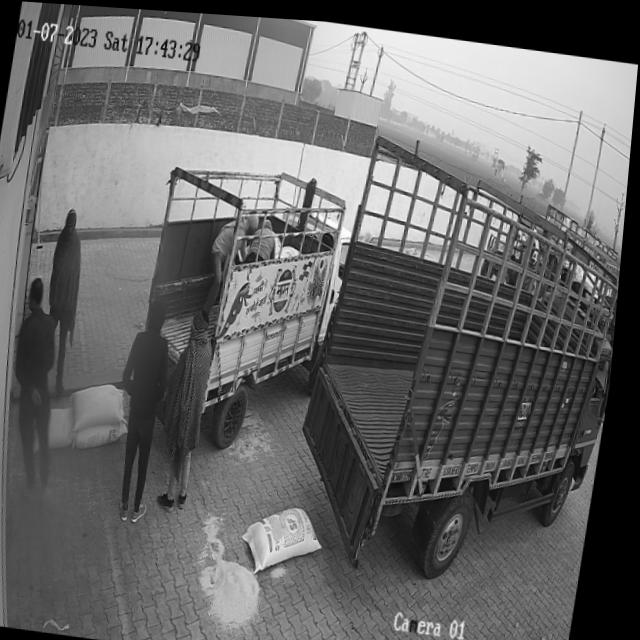sack: (245, 496, 336, 578), (72, 377, 134, 434), (81, 414, 135, 451), (52, 402, 84, 450)
